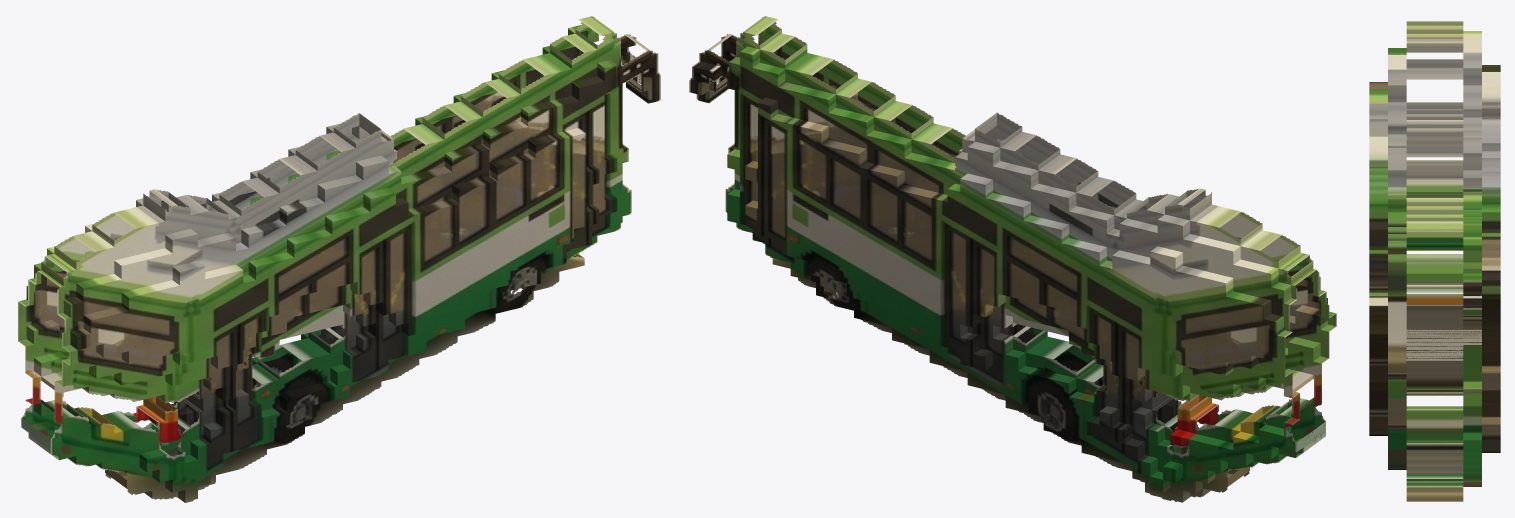
File: bus.glb
The picture shows the model from 3 angles, left to right: view 1: azimuth 30°, elevation 25°; view 2: azimuth 150°, elevation 25°; view 3: azimuth 270°, elevation 25°; orthographic projection. The views are drawn at different scales.
Parts seen in each view (by area): view 1: bus; view 2: bus; view 3: bus.
Part boxes in pixels (bbox=[...]): bus: bbox=[18, 16, 660, 502]; bus: bbox=[689, 16, 1336, 502]; bus: bbox=[1369, 21, 1500, 501].
Size of the model in its own units: 48 by 27 by 7.
1 material, 1 textured.
